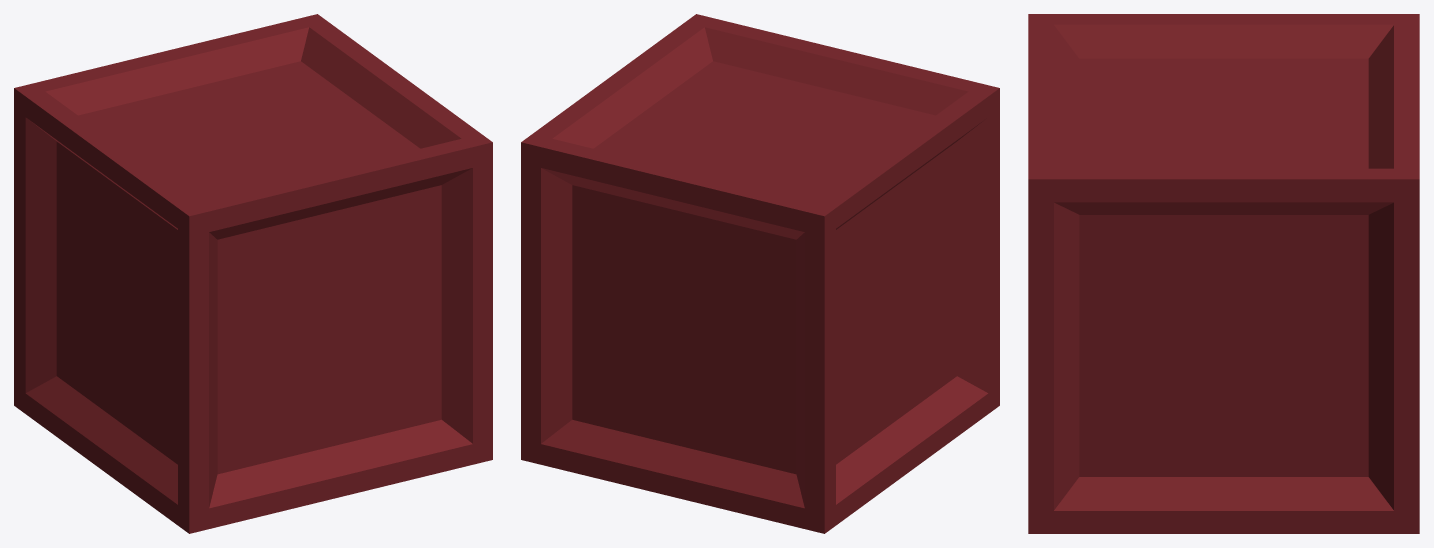
The model's file is healBox.fbx.
The picture shows the model from 3 angles, left to right: view 1: azimuth 30°, elevation 25°; view 2: azimuth 150°, elevation 25°; view 3: azimuth 270°, elevation 25°; orthographic projection. The views are drawn at different scales.
Visible parts, largest first — view 1: Cube.004; view 2: Cube.004; view 3: Cube.004.
Part boxes in pixels (x1,y1,x2,y2): Cube.004: (14, 14, 492, 533); Cube.004: (521, 14, 999, 533); Cube.004: (1028, 14, 1419, 533).
Size of the model in its own units: 230 by 230 by 230.
